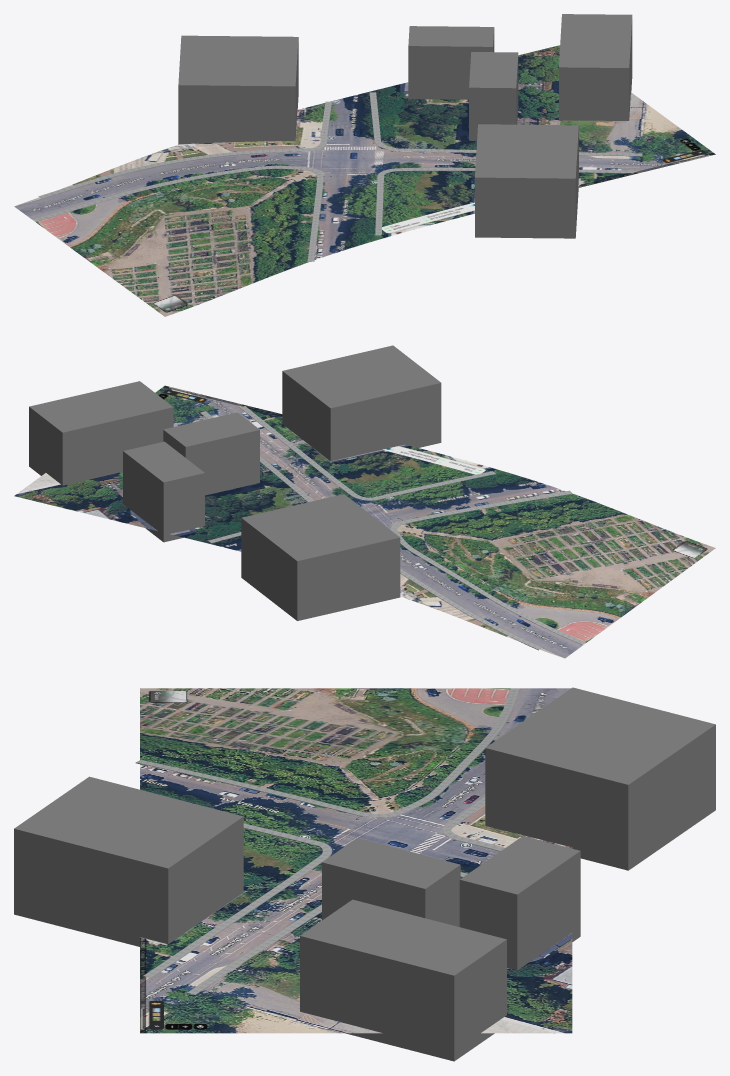
Rendered from street_corner.fbx.
3 renders of one model, top to bottom at view 1: azimuth 30°, elevation 25°; view 2: azimuth 150°, elevation 25°; view 3: azimuth 270°, elevation 25°, orthographic. The views are drawn at different scales.
Visible parts, largest first — view 1: terrain, Building.001, Building.005, Building.004, Building.003, Building.002, sidewalk_SW, sidewalk_NW, sidewalk_SE, sidewalk_NE; view 2: terrain, Building.001, Building.005, Building.004, Building.003, Building.002, sidewalk_SW, sidewalk_SE, sidewalk_NW, sidewalk_NE; view 3: terrain, Building.001, Building.005, Building.004, Building.003, Building.002, sidewalk_SW, sidewalk_SE, sidewalk_NE, sidewalk_NW.
Part boxes in pixels (x1,y1,x2,y2): terrain: [14, 45, 715, 316]; Building.001: [178, 35, 298, 144]; Building.005: [475, 124, 578, 238]; Building.004: [559, 14, 632, 120]; Building.003: [408, 26, 494, 99]; Building.002: [469, 52, 518, 140]; sidewalk_SW: [33, 165, 323, 261]; sidewalk_NW: [38, 101, 331, 198]; sidewalk_SE: [375, 167, 633, 235]; sidewalk_NE: [369, 92, 642, 156]; terrain: [14, 385, 715, 658]; Building.001: [241, 494, 400, 620]; Building.005: [282, 345, 441, 461]; Building.004: [29, 381, 173, 485]; Building.003: [123, 441, 204, 542]; Building.002: [163, 412, 259, 495]; sidewalk_SW: [390, 490, 585, 644]; sidewalk_SE: [239, 406, 495, 500]; sidewalk_NW: [400, 568, 542, 650]; sidewalk_NE: [200, 411, 313, 543]; terrain: [140, 688, 572, 1033]; Building.001: [485, 687, 715, 870]; Building.005: [14, 776, 243, 946]; Building.004: [300, 899, 506, 1061]; Building.003: [459, 836, 580, 970]; Building.002: [322, 838, 460, 926]; sidewalk_SW: [135, 688, 519, 817]; sidewalk_SE: [143, 823, 332, 978]; sidewalk_NE: [187, 872, 467, 994]; sidewalk_NW: [441, 796, 504, 851].
Bounding box in the file's own units: 20155 × 2710 × 14827.
